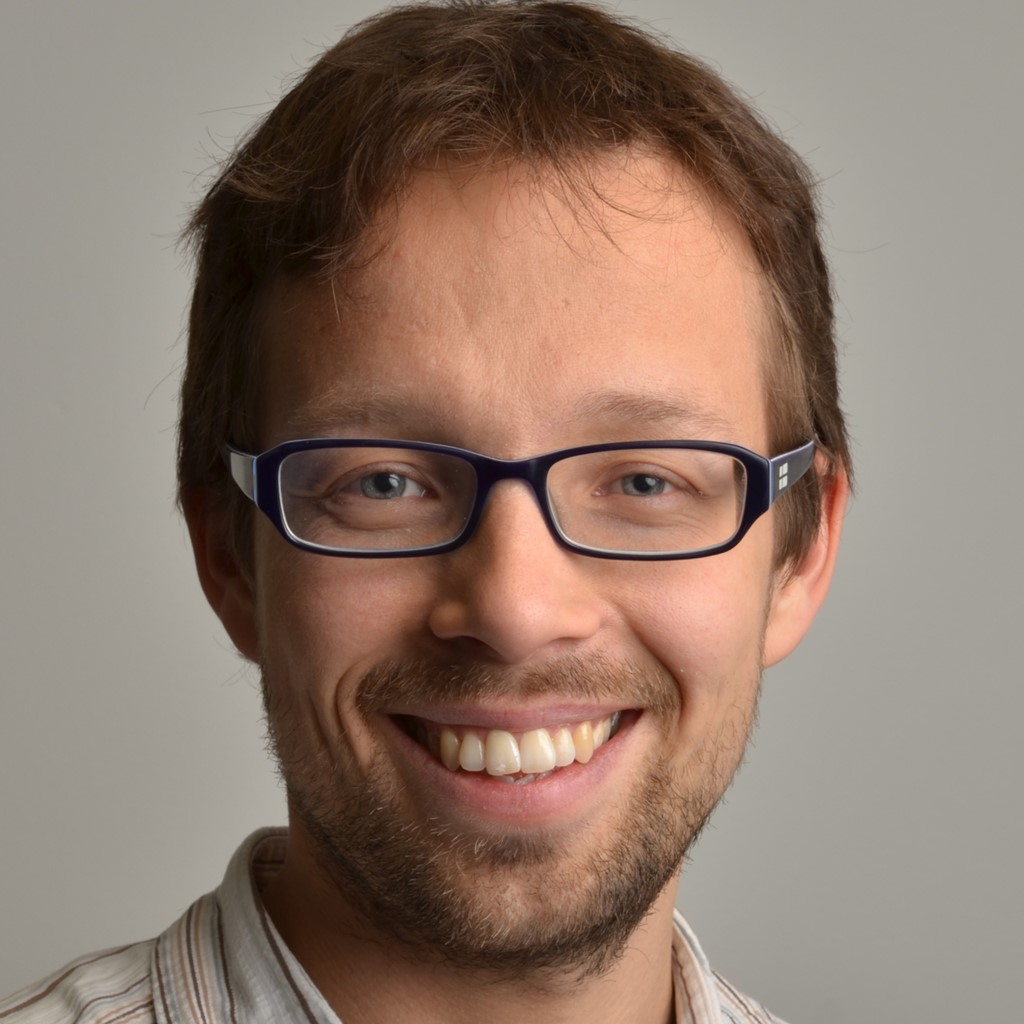sin_mascara: (210, 92, 809, 950)
